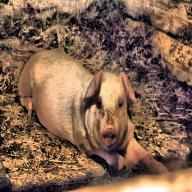boar: (18, 50, 171, 178)
